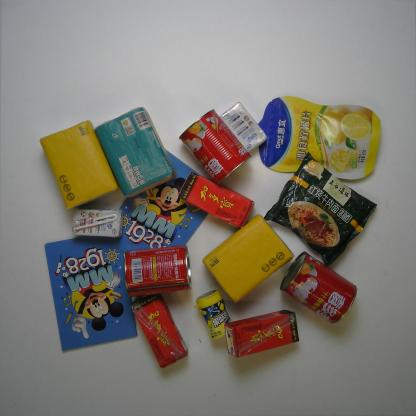Canned Food: (278, 248, 360, 329), (178, 108, 253, 185), (122, 242, 193, 298)
Dried Fruit: (250, 95, 384, 182)
Drink: (130, 289, 192, 371), (176, 169, 257, 229), (223, 307, 301, 360)
Gum: (194, 288, 236, 341)
Instant Noodles: (260, 151, 384, 272)
Milk: (220, 101, 266, 155), (70, 206, 125, 240)
Stationery: (102, 145, 220, 272), (42, 230, 141, 355)
Tissue: (201, 213, 296, 308), (94, 104, 176, 201), (39, 118, 122, 212)
